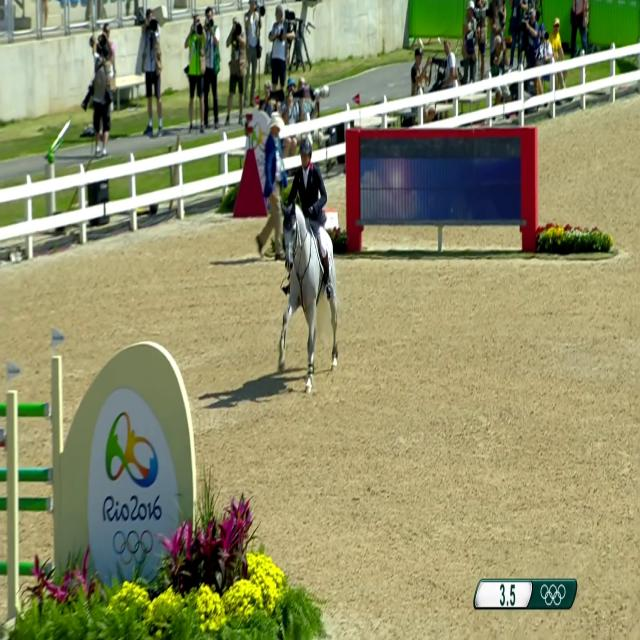Horse Running: (256, 174, 362, 376)
